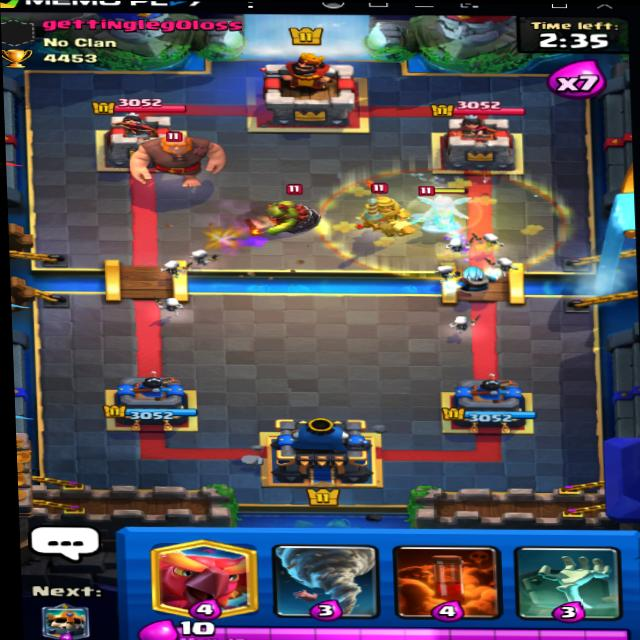battle-healer: (406, 187, 483, 235)
giant: (130, 123, 228, 183)
goblin-demolisher: (254, 187, 320, 237)
prince: (346, 180, 413, 237)
